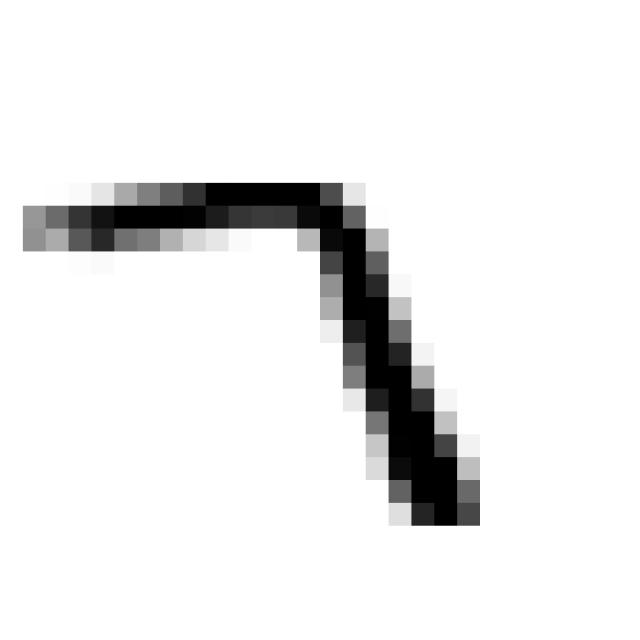6 -six-: (7, 158, 494, 546)
